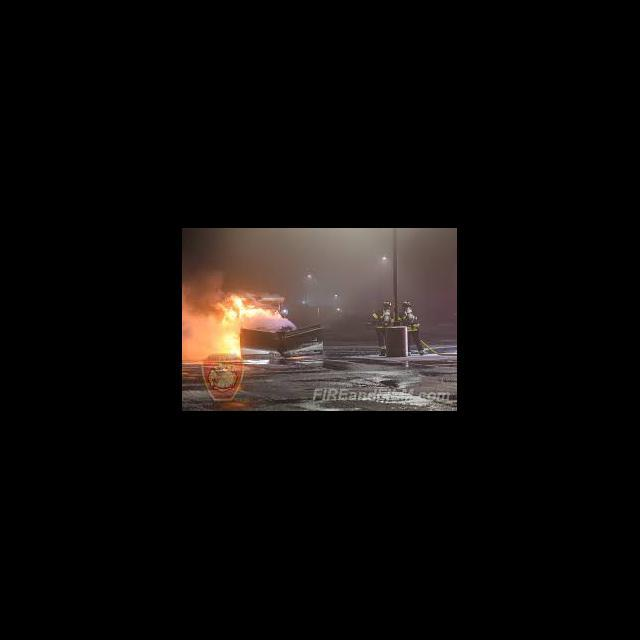Fire: (182, 272, 240, 358), (240, 294, 280, 316)
